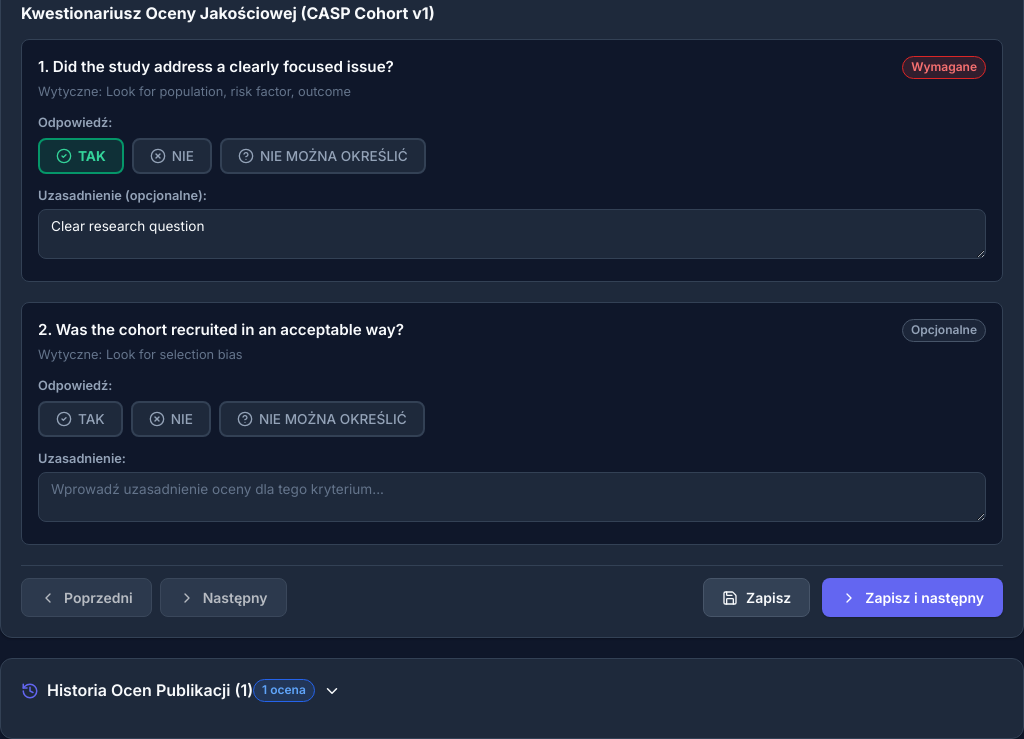
Test: Quality Assessment GUI (Phase 8.4) › 7. HISTORY: displays previous assessments audit log and preserves historical template version
(page scrolled)
Click the text "Historia Ocen Publikacji (1)" at coordinates (150, 691), box 47,680 -> 253,701
(page scrolled)
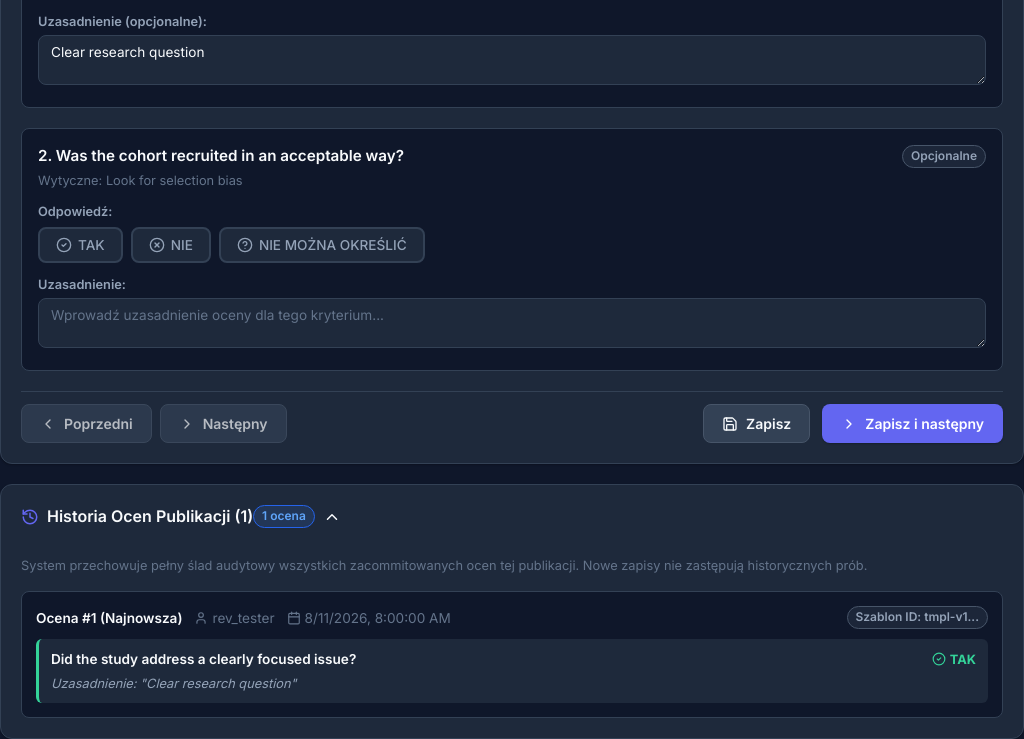
Result: the text "Uzasadnienie: \"Clear research question\"" is shown at 51,676 -> 296,691
